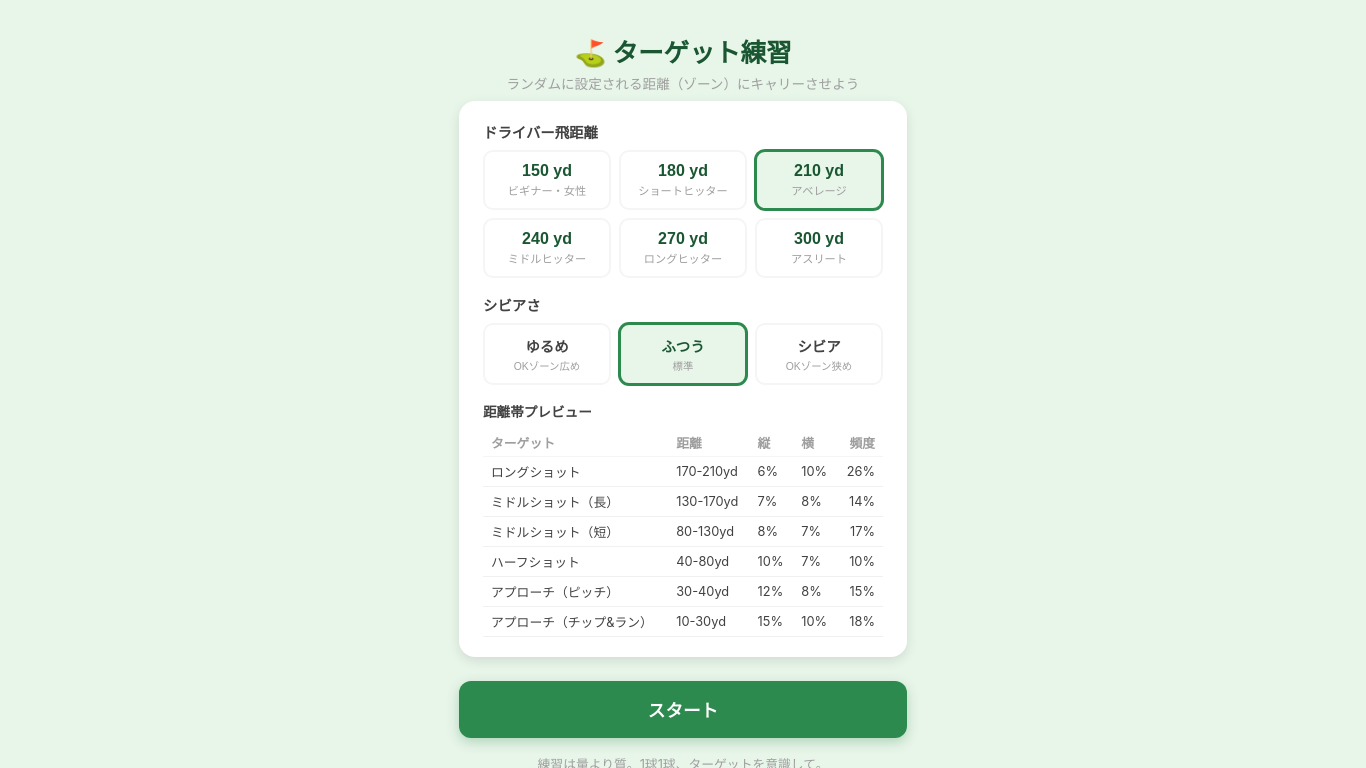
Test: App › ヘルプボタンでモーダルが表示・非表示される
Click the button with test id "next-button" at (683, 710), box [459,681,907,738]
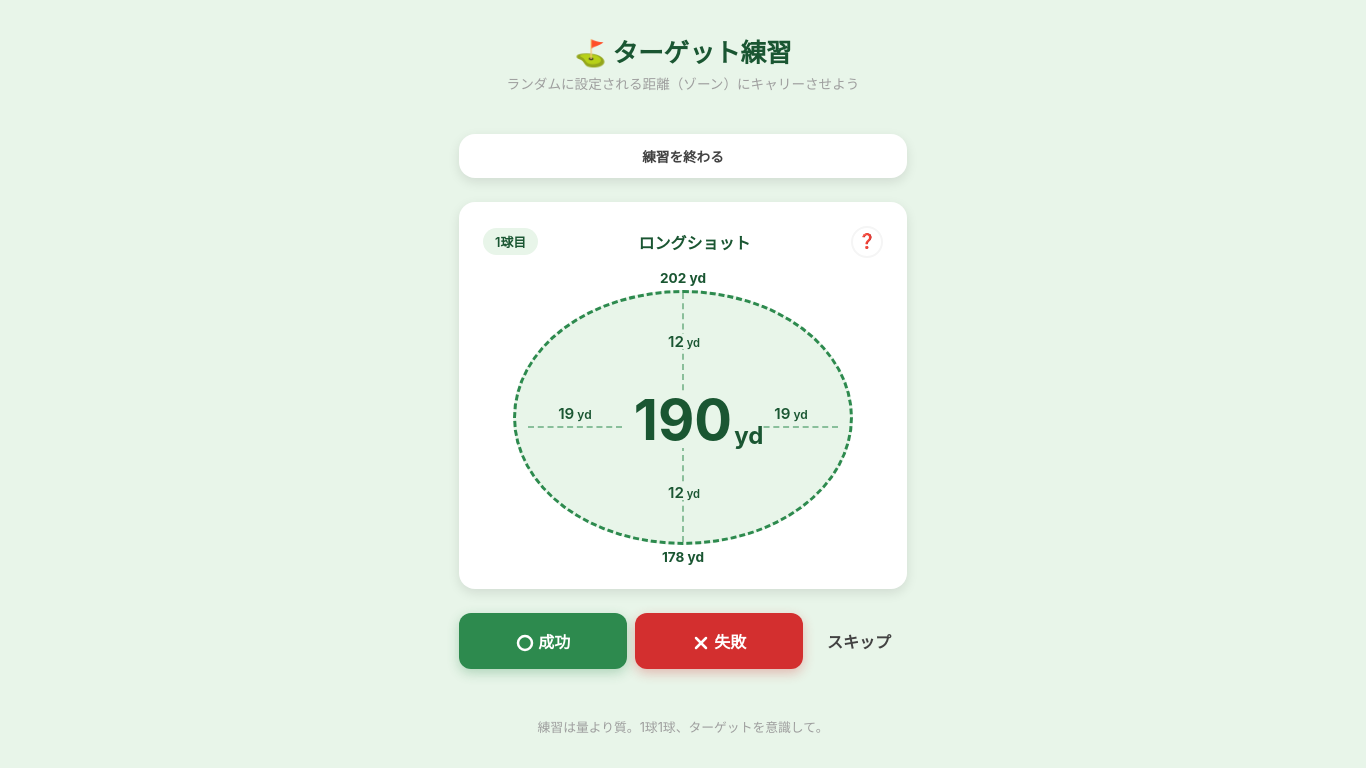
Click the button with test id "help-button" at (867, 242), box [851,226,883,258]
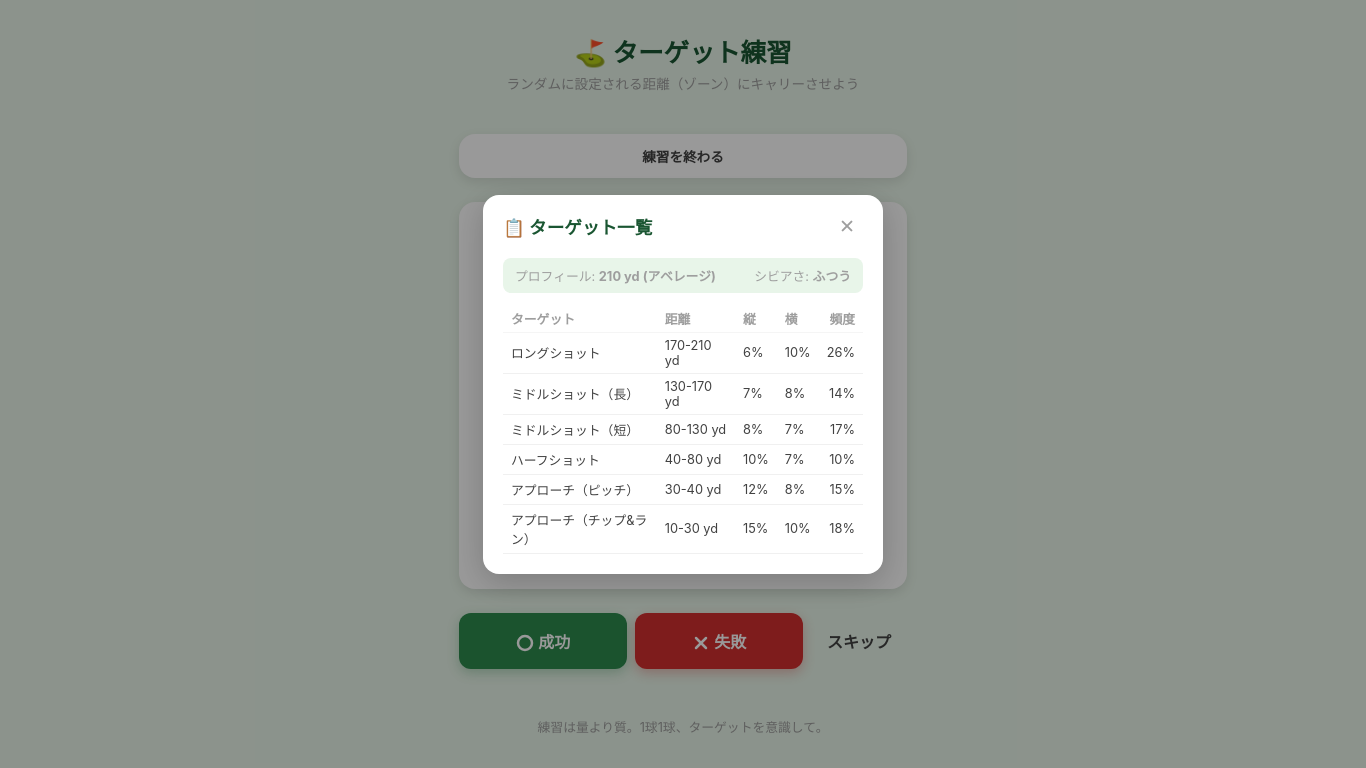
Now the element with test id "help-modal" is shown
Click the button with test id "help-close-button" at (847, 226), box [831,210,863,242]
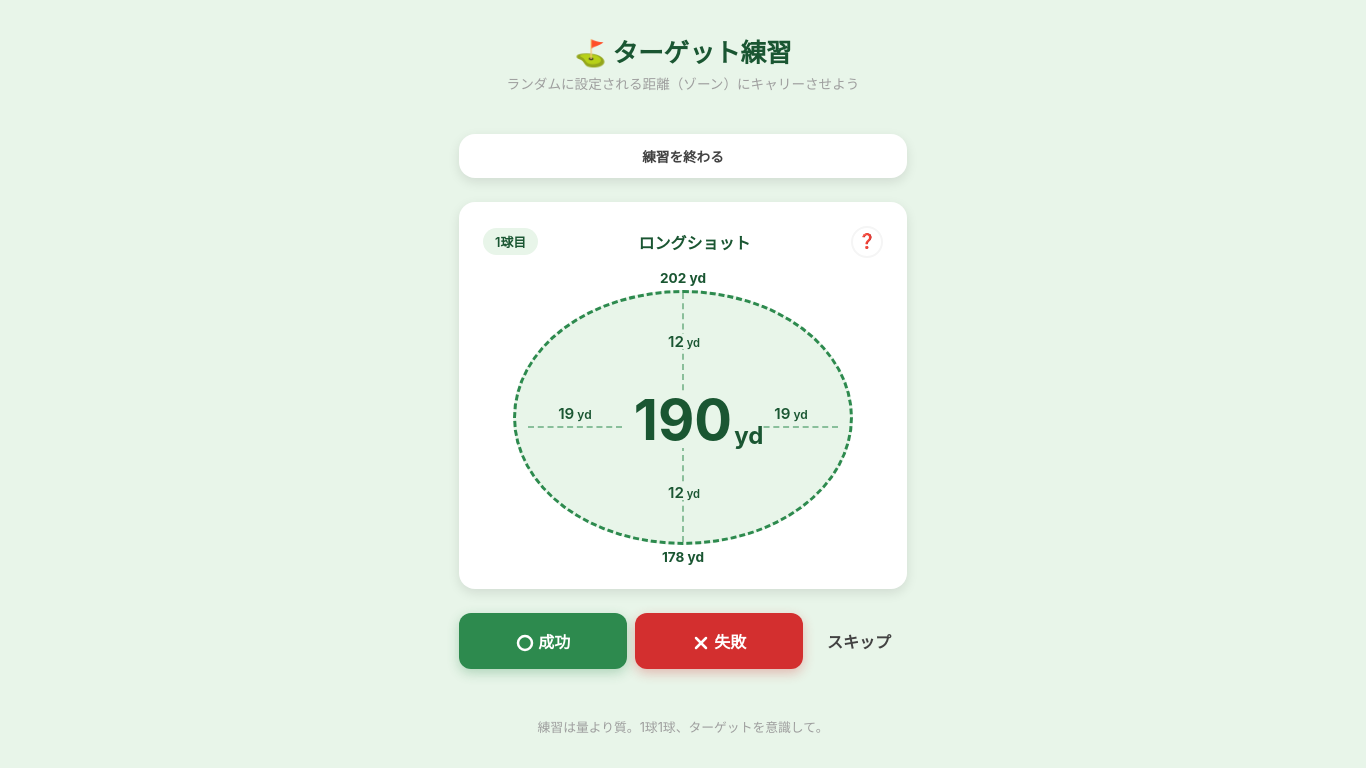
Now the element with test id "help-modal" is gone
